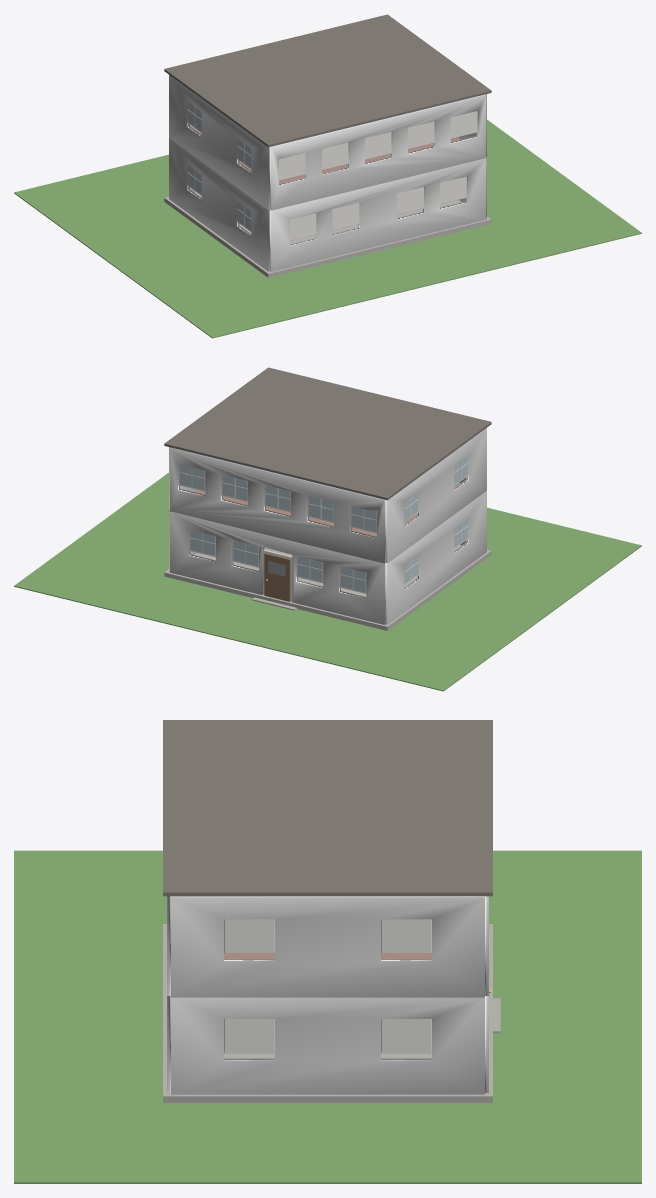
File: school_elementary.glb
The picture shows the model from 3 angles, top to bottom: view 1: azimuth 30°, elevation 25°; view 2: azimuth 150°, elevation 25°; view 3: azimuth 270°, elevation 25°; orthographic projection. The views are drawn at different scales.
Parts seen in each view (by area): view 1: ground, roof, back_gf, back_uf, left_uf, left_gf, frame (×9), foundation, floor_uf; view 2: ground, roof, front_uf, front_gf, left_uf, left_gf, frame (×9), glass (×9), foundation, panel, floor_gf, floor_uf; view 3: ground, roof, right_uf, right_gf, frame (×4), foundation.
Part boxes in pixels (box(x1,y1,x2,y2)): ground: box(14, 119, 641, 338); roof: box(164, 14, 491, 147); back_gf: box(270, 158, 486, 271); back_uf: box(270, 94, 486, 210); left_uf: box(169, 75, 270, 210); left_gf: box(169, 138, 270, 271); frame (×9): box(279, 111, 477, 240); foundation: box(164, 196, 491, 277); floor_uf: box(195, 130, 460, 183); ground: box(14, 472, 641, 691); roof: box(164, 367, 491, 500); front_uf: box(169, 447, 385, 563); front_gf: box(169, 511, 385, 624); left_uf: box(385, 428, 486, 563); left_gf: box(385, 491, 486, 624); frame (×9): box(178, 464, 376, 593); glass (×9): box(179, 464, 376, 592); foundation: box(164, 549, 491, 630); panel: box(264, 553, 290, 601); floor_gf: box(194, 545, 461, 596); floor_uf: box(195, 483, 460, 536); ground: box(14, 850, 641, 1183); roof: box(163, 720, 492, 896); right_uf: box(171, 896, 484, 997); right_gf: box(171, 997, 484, 1094); frame (×4): box(224, 919, 431, 1053); foundation: box(163, 924, 492, 1102).
Size of the model in its own units: 20 by 6.05 by 16.
